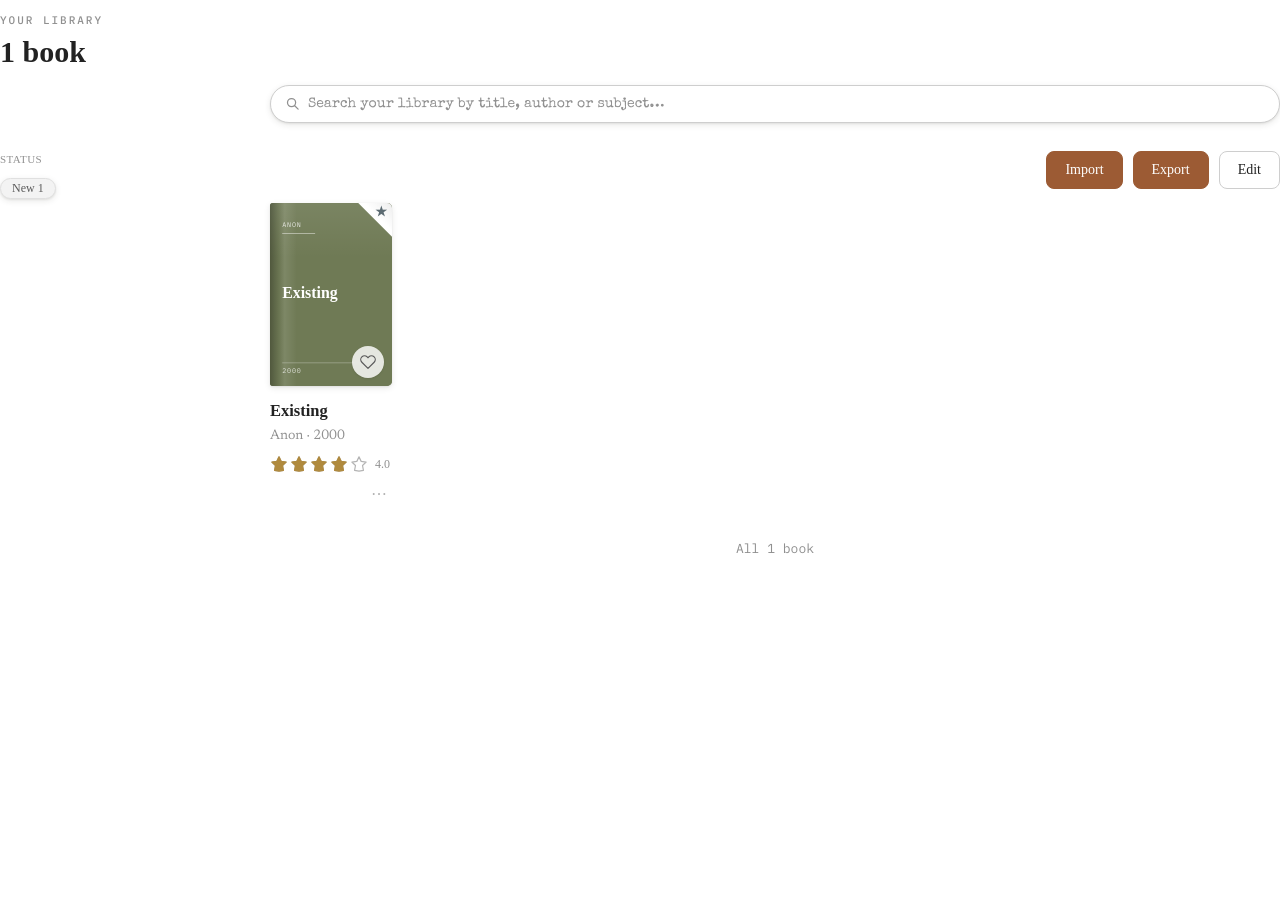
Test case: CsvImportModal › opens from the header and shows the expected format
This screenshot has width=1280, height=900.
Click the button "Import": (1084, 170) [1046,151,1122,189]
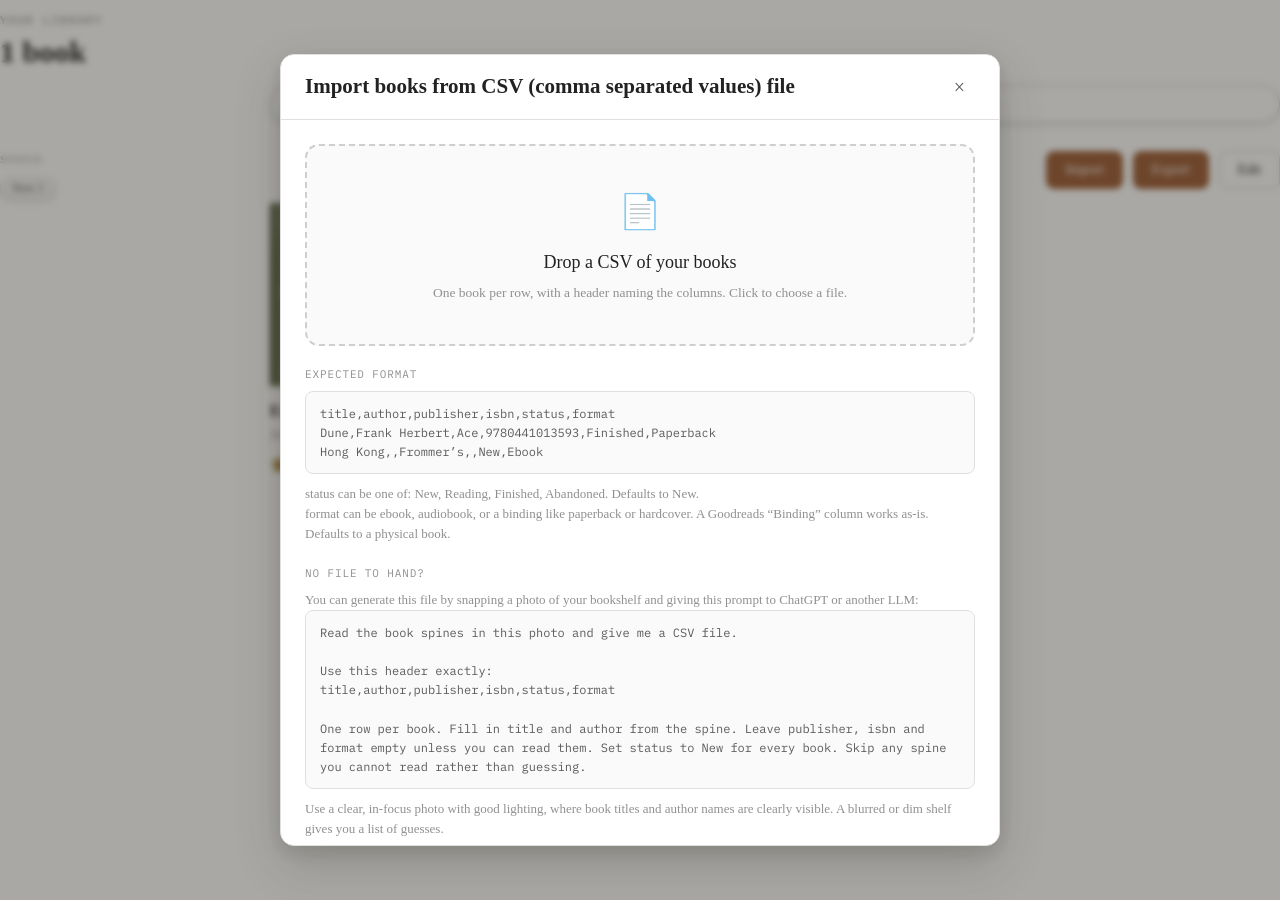
Expected: the text "Drop a CSV of your books" is shown, [543,252,737,272]
Expected: the text "title,author,publisher,isbn,status" is shown, [320,406,716,459]
